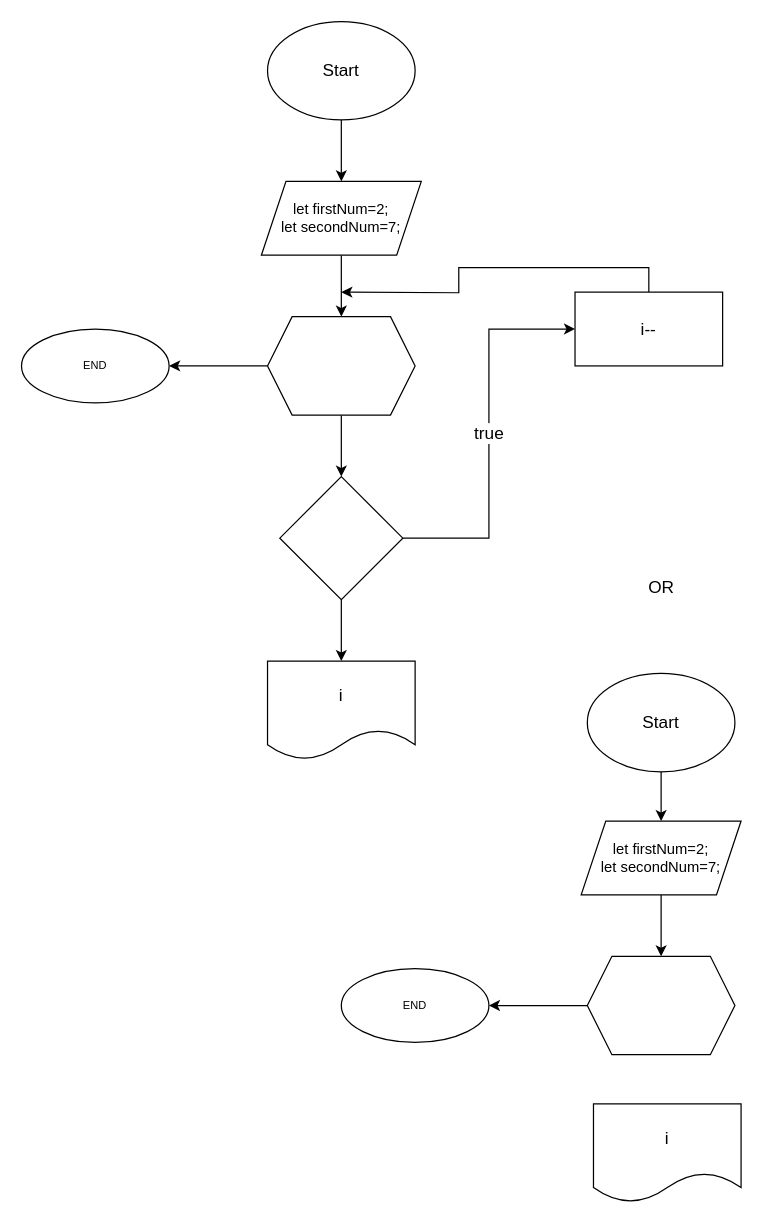
Image size: 763x1224. Some labels were removed from this diagram. The shapes that lost their labels are listed below. From the top down, each one's centre as x and y in pixels, then its label:
At point 340,365: "let i=secondNum; i>=firstNum; i--".
At point 341,537: "i%2==0".
At point 660,1005: "let i=secondNum; i>=firstNum; i--2;".
